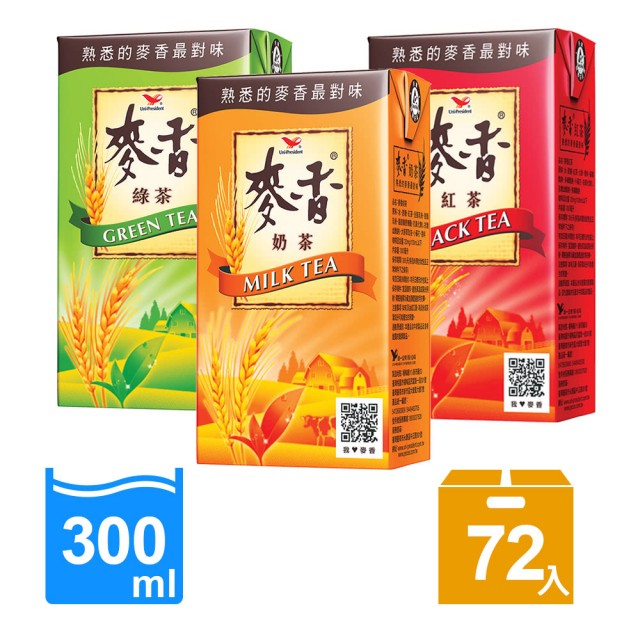milk tea: (193, 69, 431, 469)
